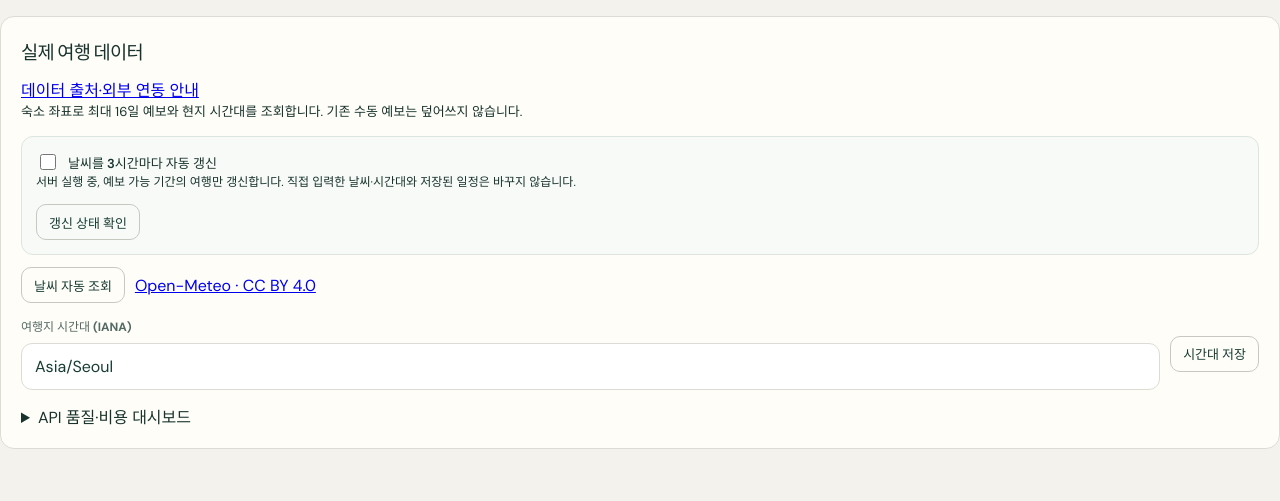
live data and community › loads and saves the local time zone and refreshes automatic weather
Step 1. Replace the text in the field labelled "여행지 시간대" with "Europe/Paris" → (591, 367), box [21, 343, 1160, 390]
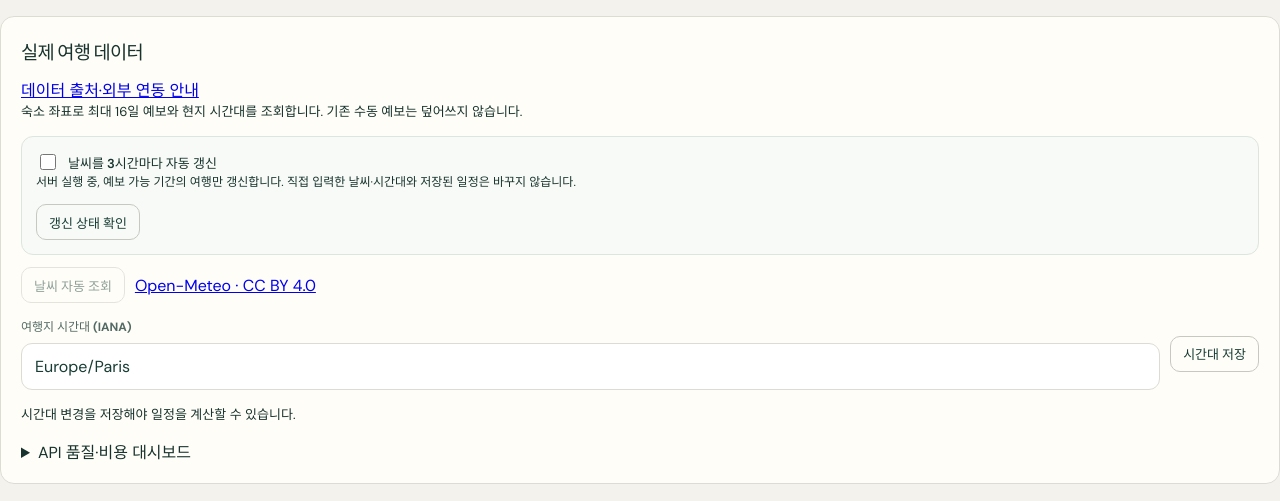
Check: the button "날씨 자동 조회" is disabled, box [21, 267, 125, 303]
Step 2. Click the button "시간대 저장" → click(1215, 354), box [1170, 336, 1259, 372]
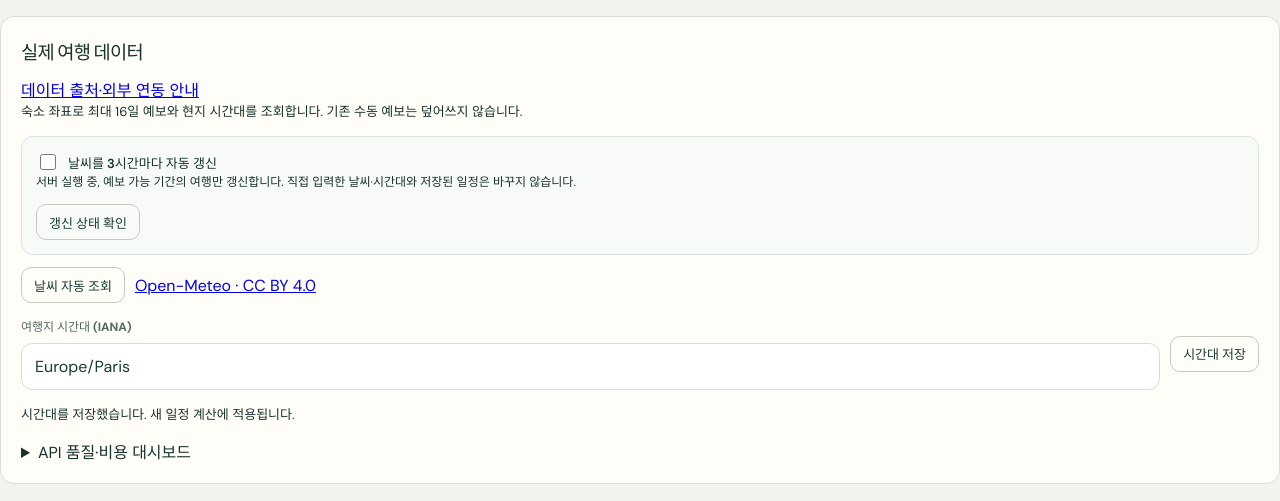
Step 3. Click the button "날씨 자동 조회" → click(73, 285), box [21, 267, 125, 303]
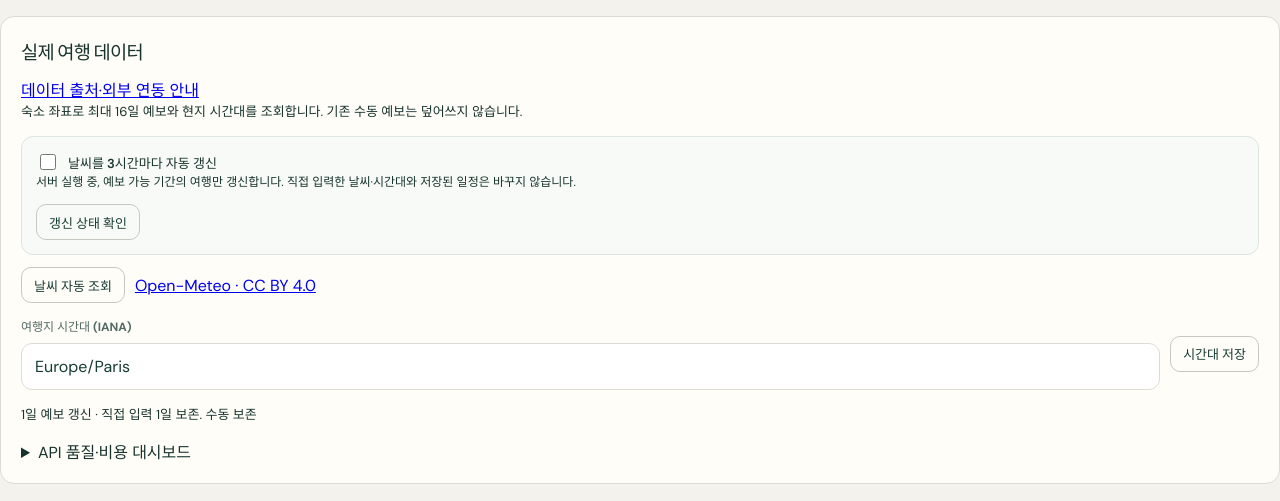
Check: the text "1일 예보 갱신 · 직접 입력 1일 보존. 수동 보존" is shown, box [21, 406, 257, 423]
